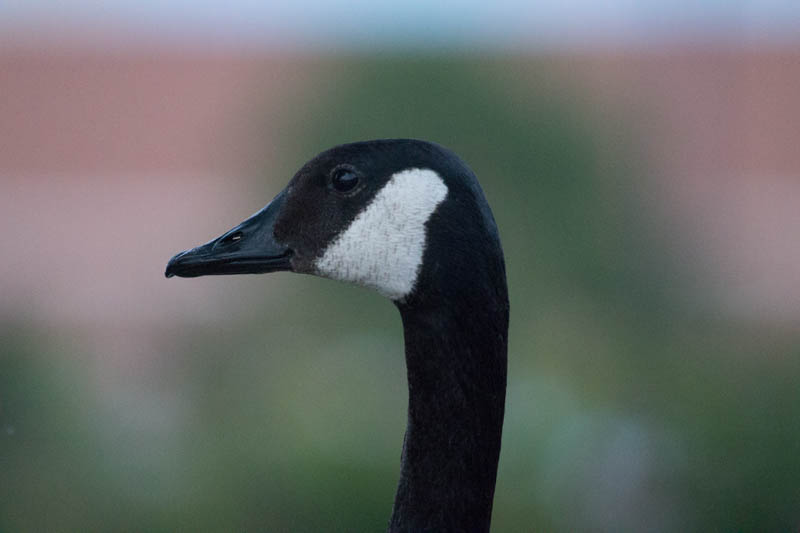goose-head: (164, 137, 505, 309)
